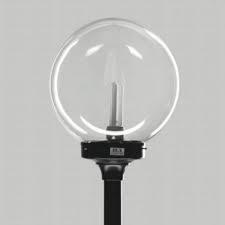Lamp: (43, 12, 182, 225)
